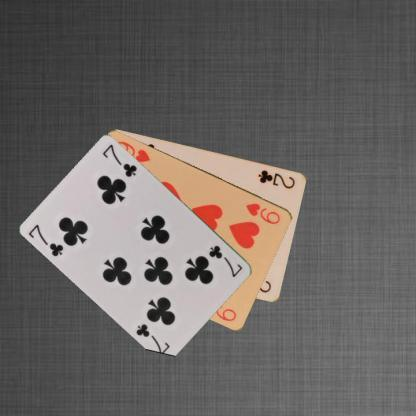2c: (256, 167, 297, 190)
7c: (26, 221, 66, 258), (206, 243, 244, 278)
9h: (244, 200, 282, 226)
